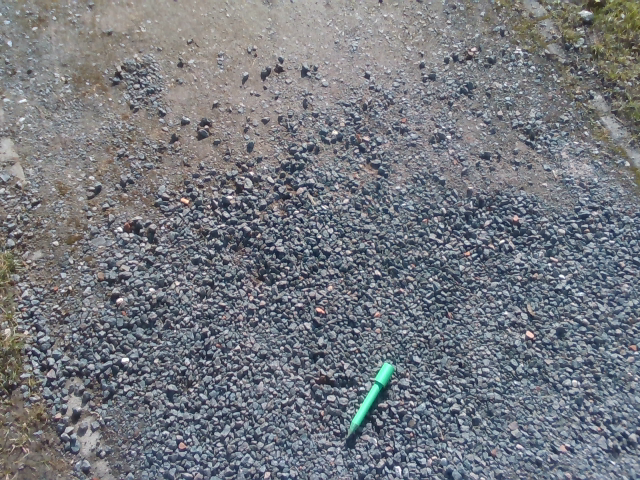Probe: (343, 358, 396, 442)
